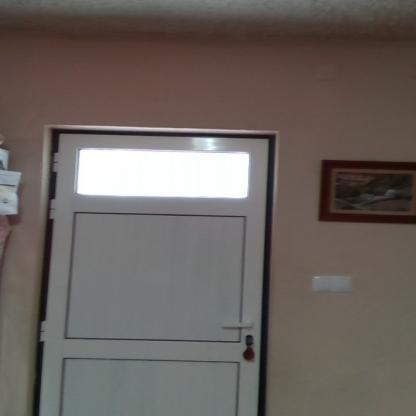door: (41, 138, 263, 416)
hinged: (50, 151, 60, 174), (48, 196, 57, 221), (40, 317, 47, 344)
lever: (221, 320, 256, 330)
